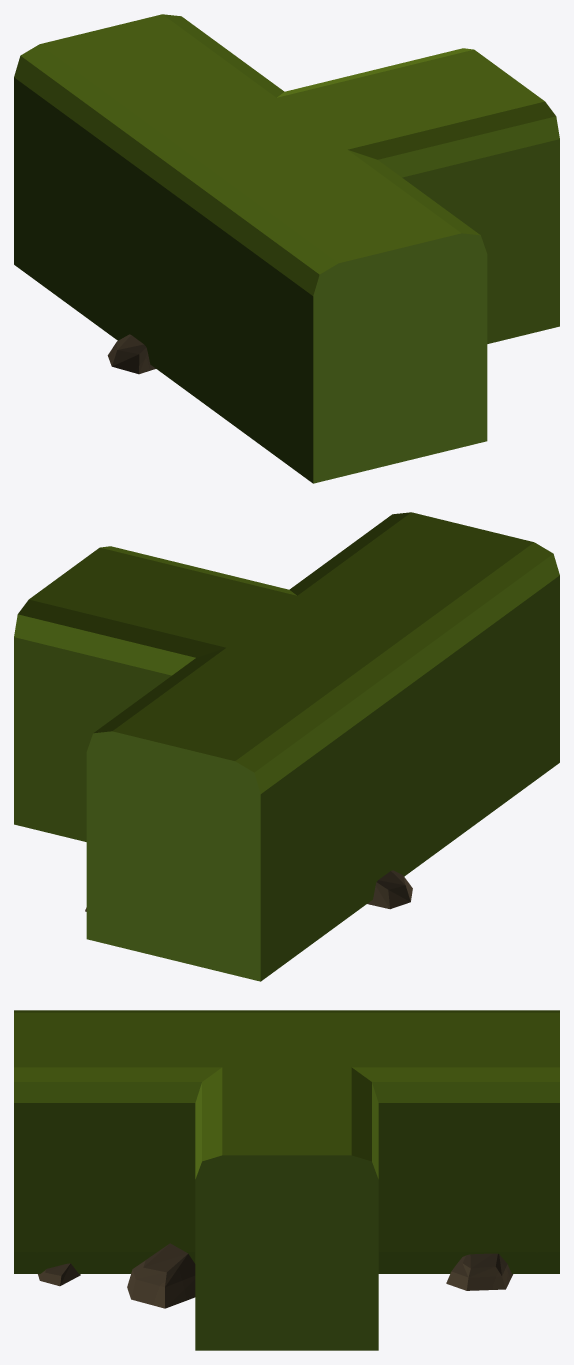
Rendered from city-decor10.fbx.
3 views of the same model, one above another, from view 1: azimuth 30°, elevation 25°; view 2: azimuth 150°, elevation 25°; view 3: azimuth 270°, elevation 25° (orthographic). The views are drawn at different scales.
Parts seen in each view (by area): view 1: city-decor10; view 2: city-decor10; view 3: city-decor10.
Boxes of the visible parts, x1,y1,x2,y2 form: city-decor10: (14, 14, 559, 483); city-decor10: (14, 512, 559, 981); city-decor10: (14, 1010, 559, 1350).
Bounding box in the file's own units: 0.7276 × 0.4117 × 1.01.
Materials: 1 (1 with a texture image).
